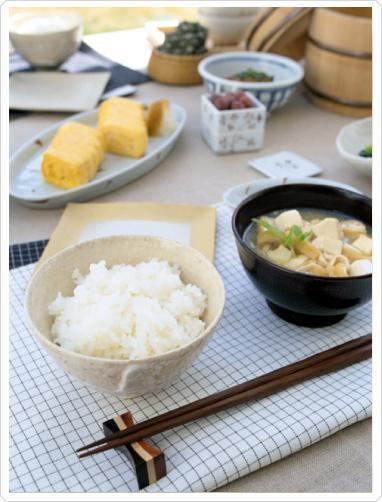rice: (48, 259, 206, 359)
